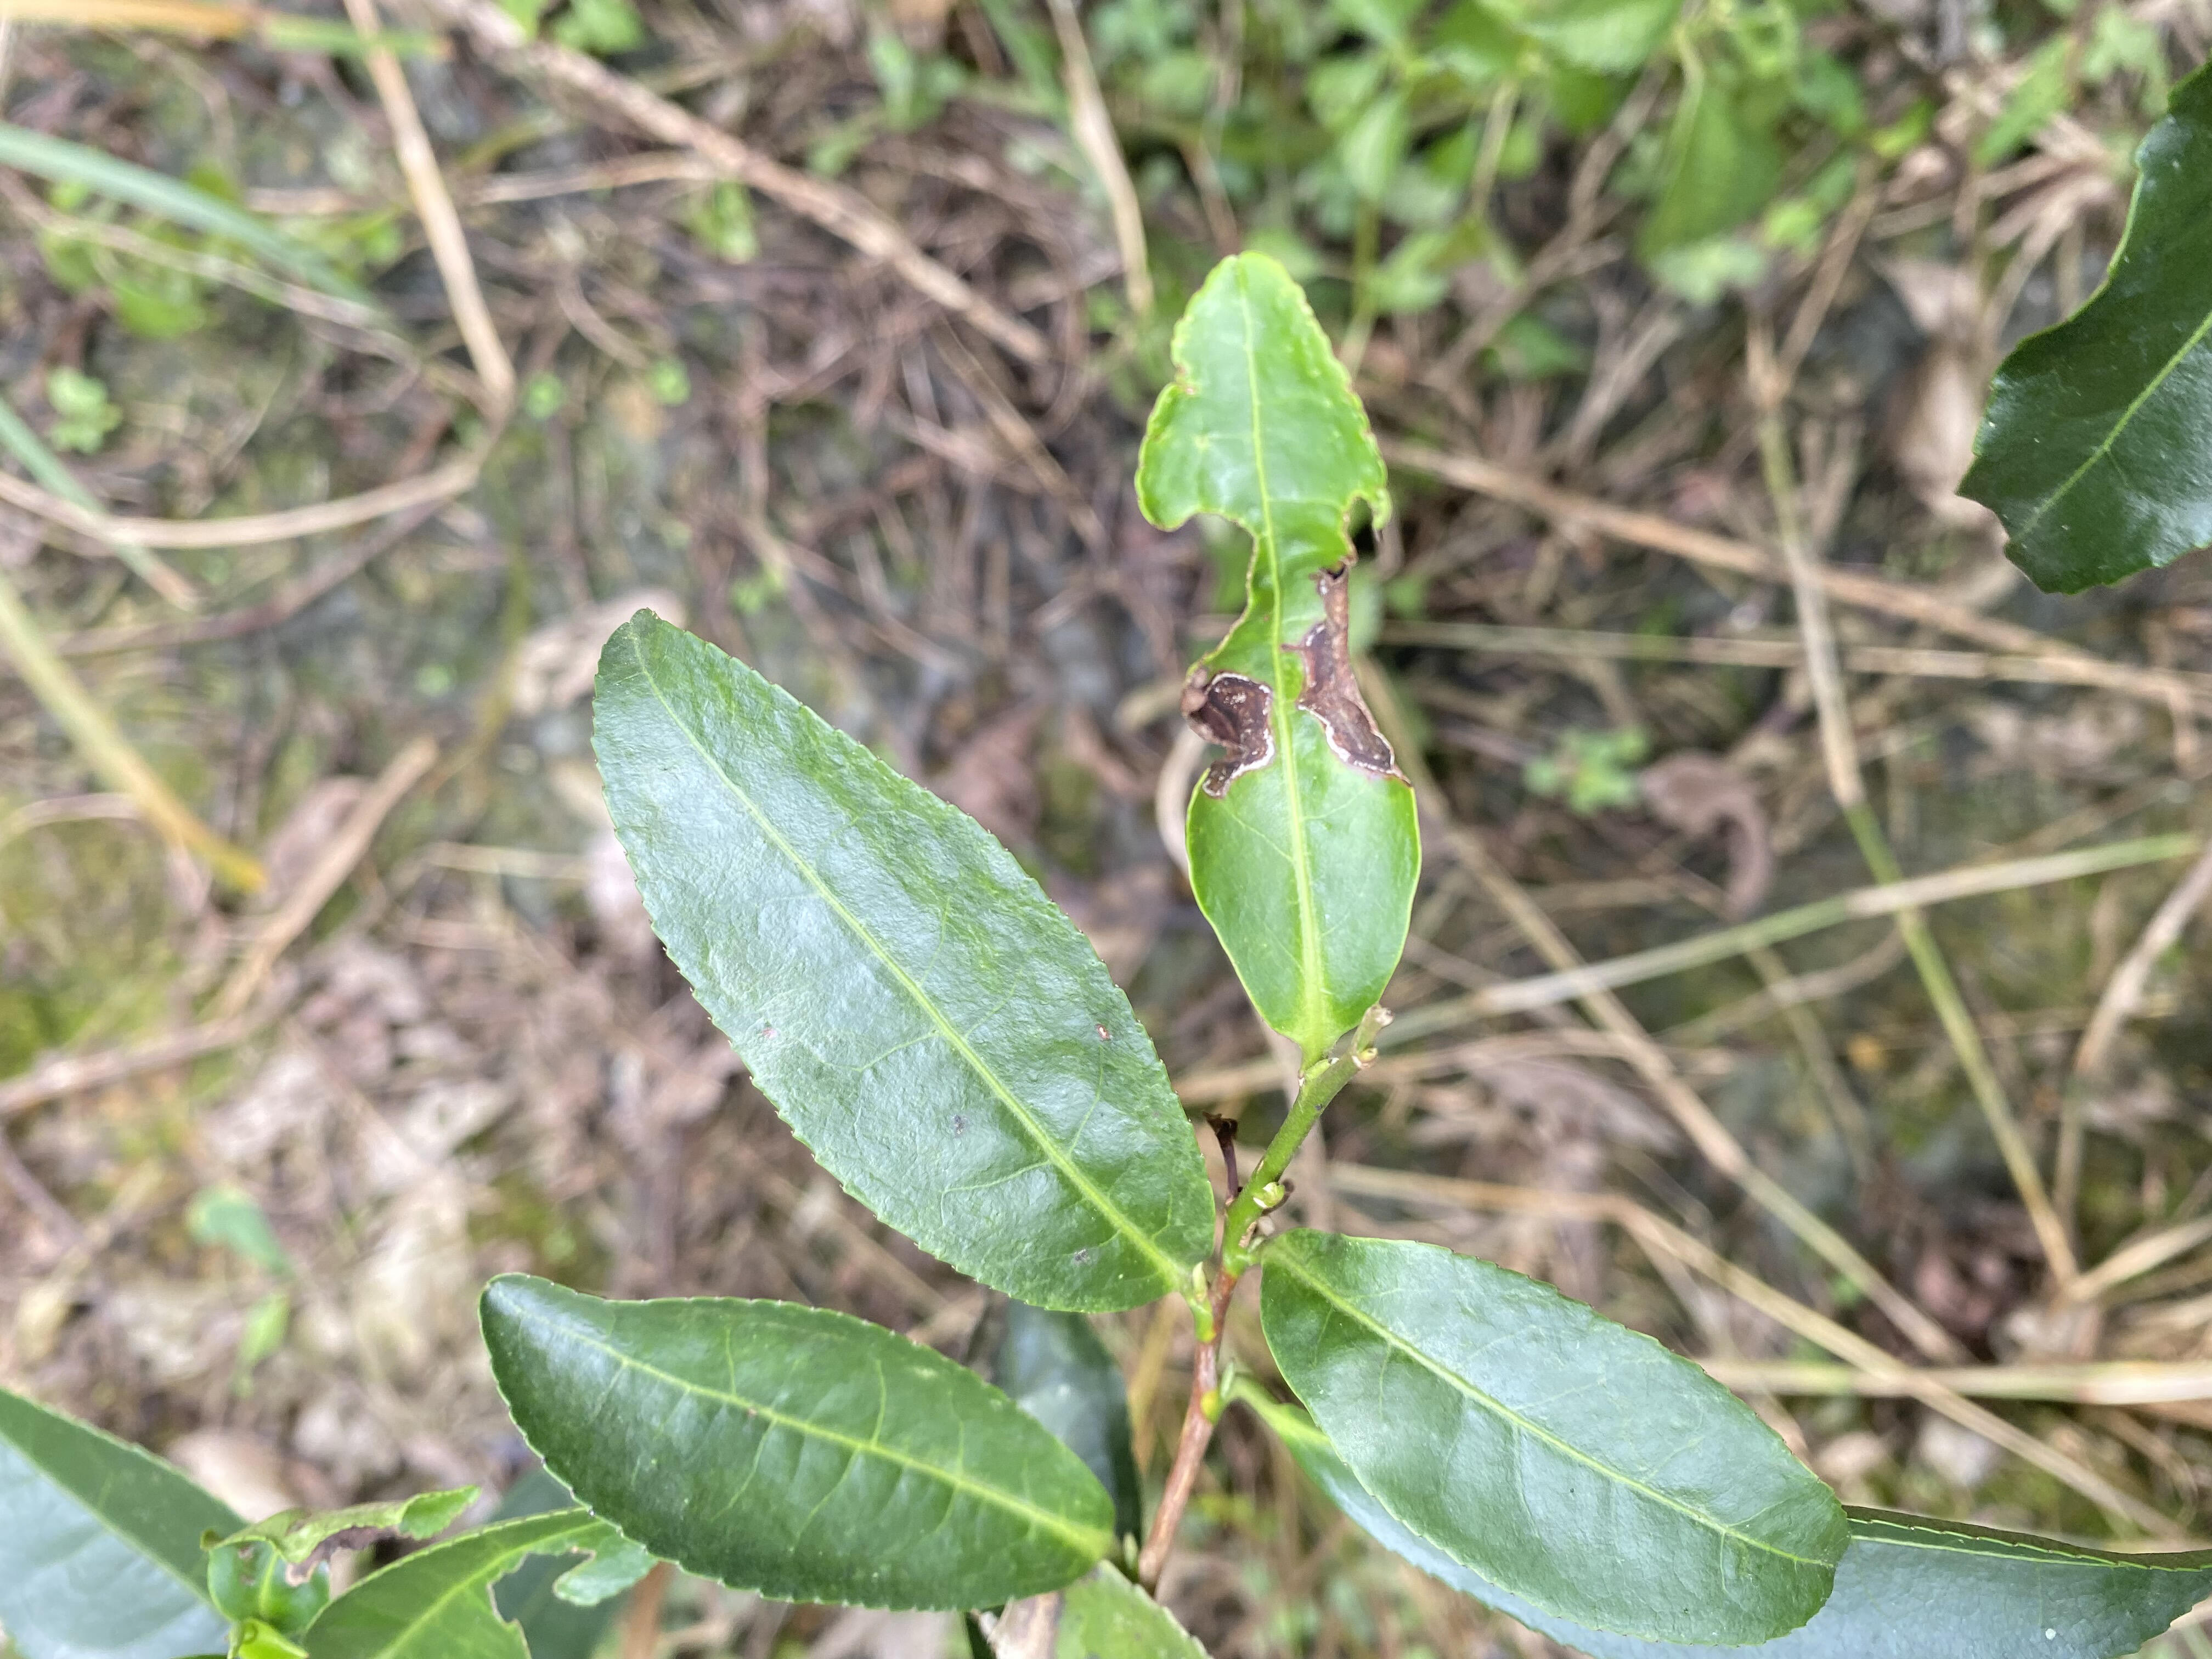healthy: (1261, 1227, 1851, 1645), (481, 1272, 1116, 1614)
tanju_high: (1136, 251, 1421, 1039)
